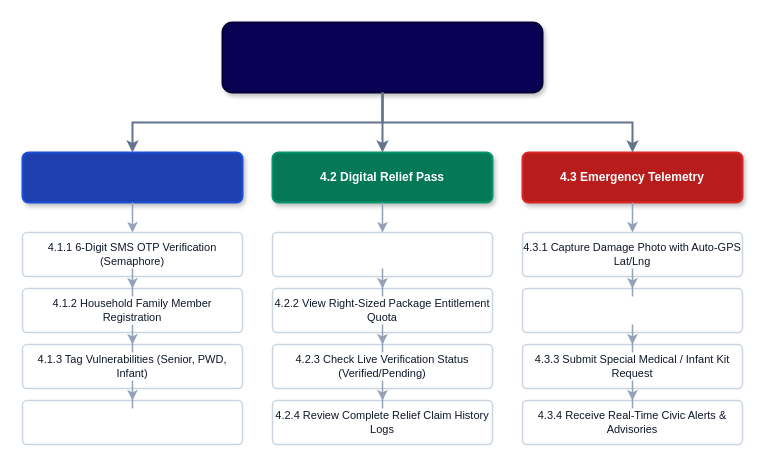
Some shapes in this 766 by 462 pixel diagram are drawn without their labels. The centre of each missing label's shape, as x and y in pixels:
"4.0 RESIDENT CITIZEN MODULES Mobile Beneficiary Client (React Native / Expo)" belongs at point (383, 58).
"4.1 Profiling & Auth" belongs at point (133, 178).
"4.1.4 Upload Government ID via Camera/Gallery" belongs at point (132, 422).
"4.2.1 Display Anti-Tamper Dynamic QR Pass" belongs at point (382, 254).
"4.3.2 Select Severity Level (Totally Damaged, Severe)" belongs at point (632, 310).
